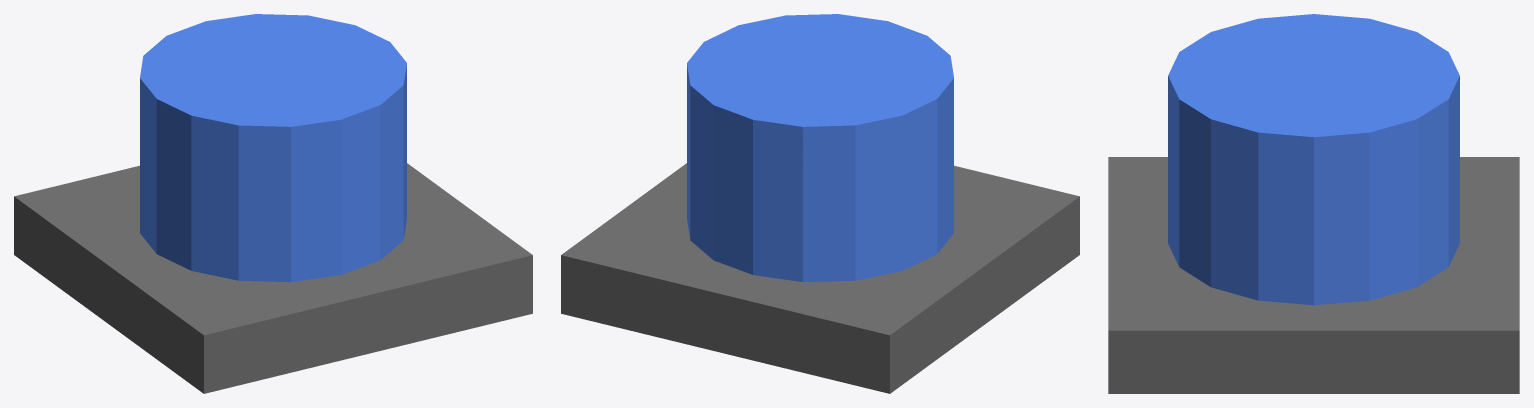
File: Blue_Button.fbx
3 views of the same model, side by side, from view 1: azimuth 30°, elevation 25°; view 2: azimuth 150°, elevation 25°; view 3: azimuth 270°, elevation 25° (orthographic). The views are drawn at different scales.
Parts seen in each view (by area): view 1: Button, Cube; view 2: Button, Cube; view 3: Button, Cube.
Boxes of the visible parts, x1=… form: Button: x1=140, y1=14, x2=406, y2=282; Cube: x1=14, y1=163, x2=532, y2=393; Button: x1=687, y1=14, x2=953, y2=282; Cube: x1=561, y1=163, x2=1079, y2=393; Button: x1=1168, y1=14, x2=1459, y2=305; Cube: x1=1108, y1=157, x2=1519, y2=393.
Bounding box in the file's own units: 200 × 124 × 200.
